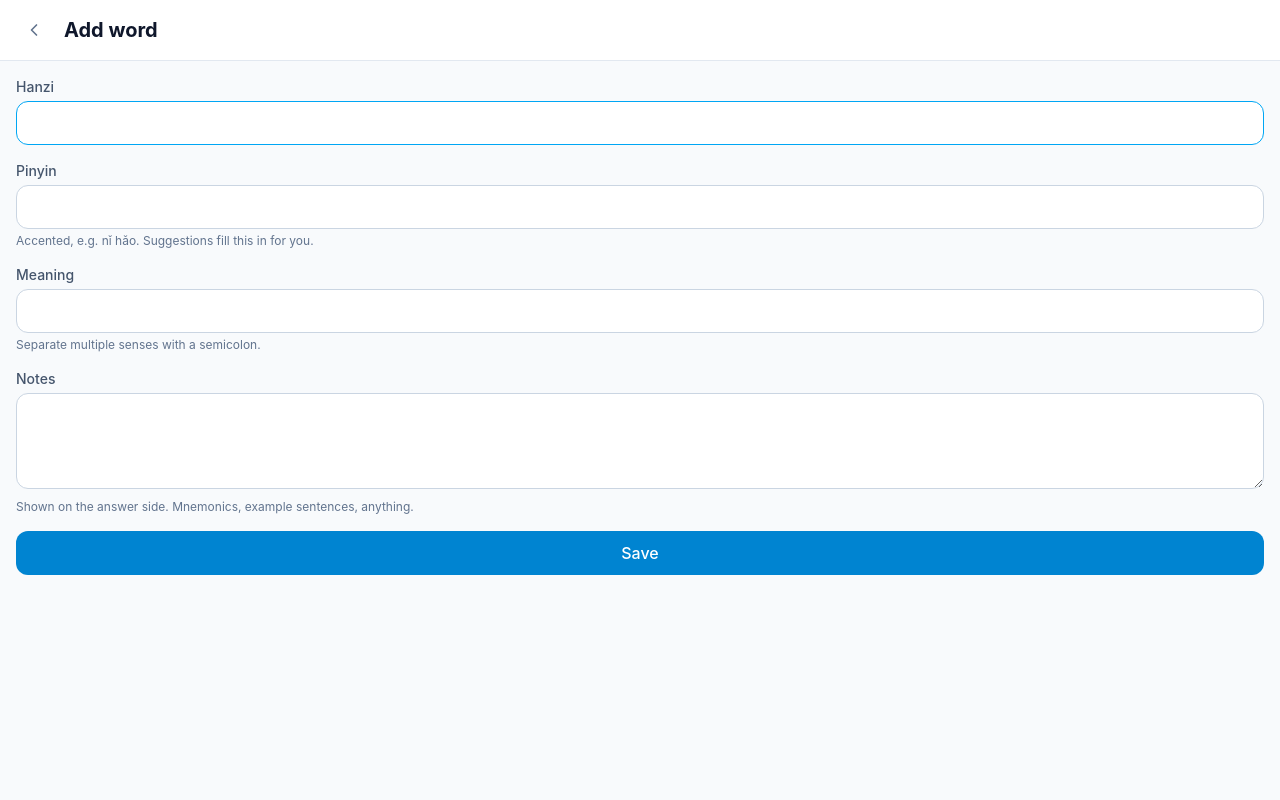
NoteEditorPage: creating › replaces pinyin and meaning when a different suggestion is picked
Type "好" into the field labelled "Hanzi" at (640,123), box [16, 101, 1264, 145]
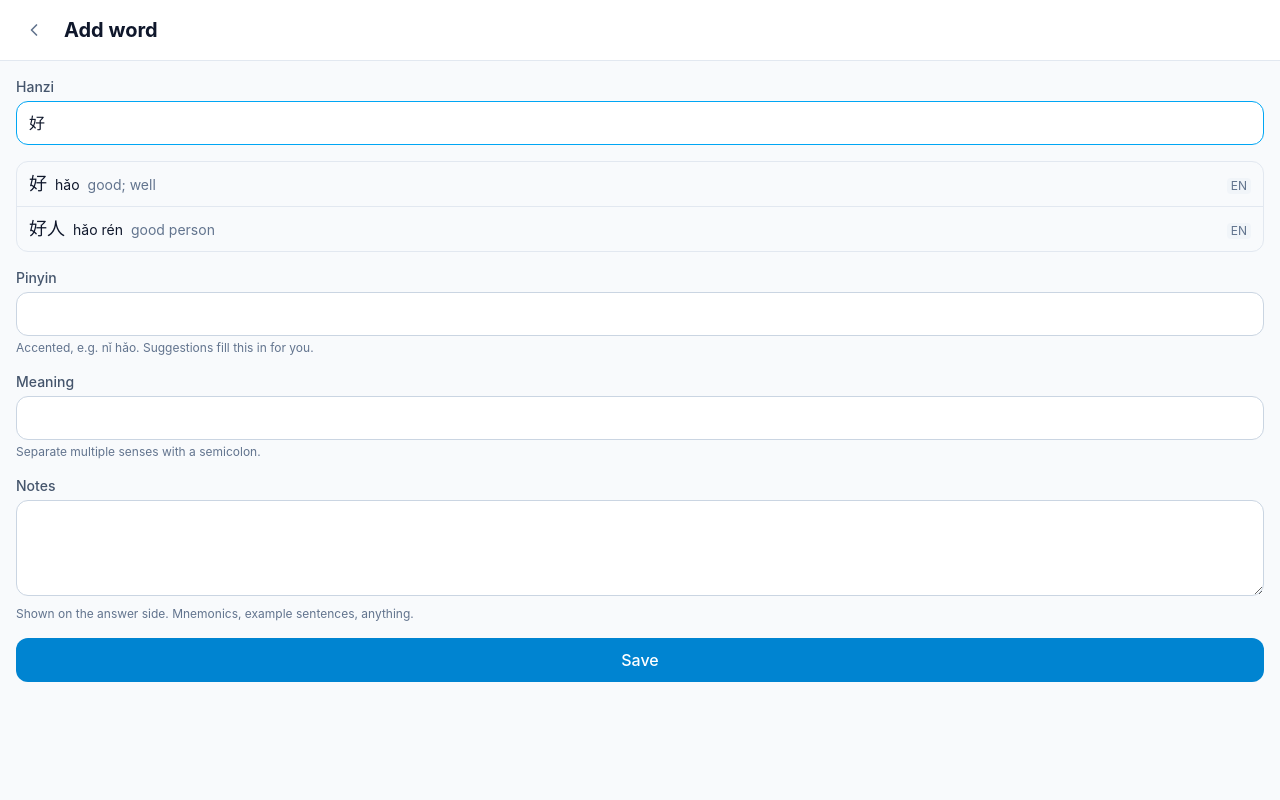
Click the button "好人 hǎo rén good person en" at (47,228), box [17, 207, 1263, 251]
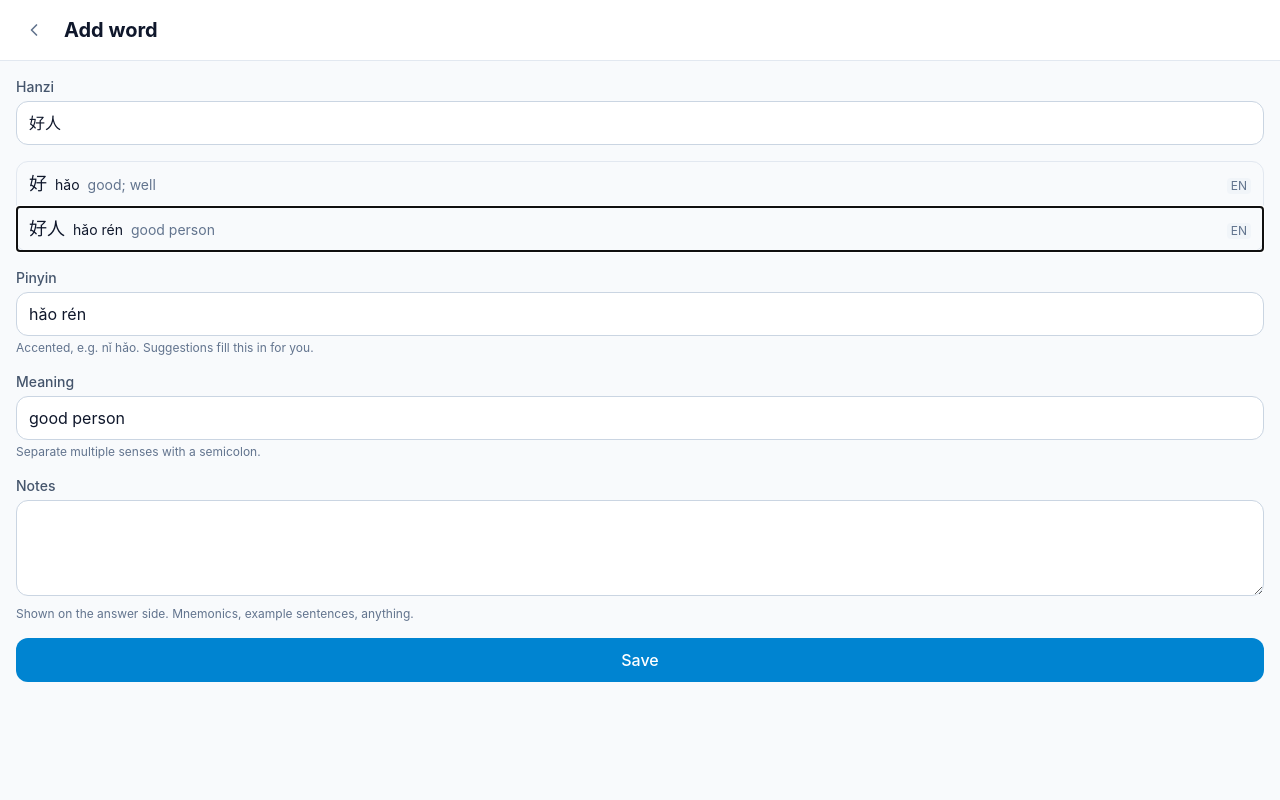
Now the field labelled "Pinyin" holds "hǎo rén", box [16, 292, 1264, 336]
Replace the text in the field labelled "Hanzi" with "好" at (640,123), box [16, 101, 1264, 145]
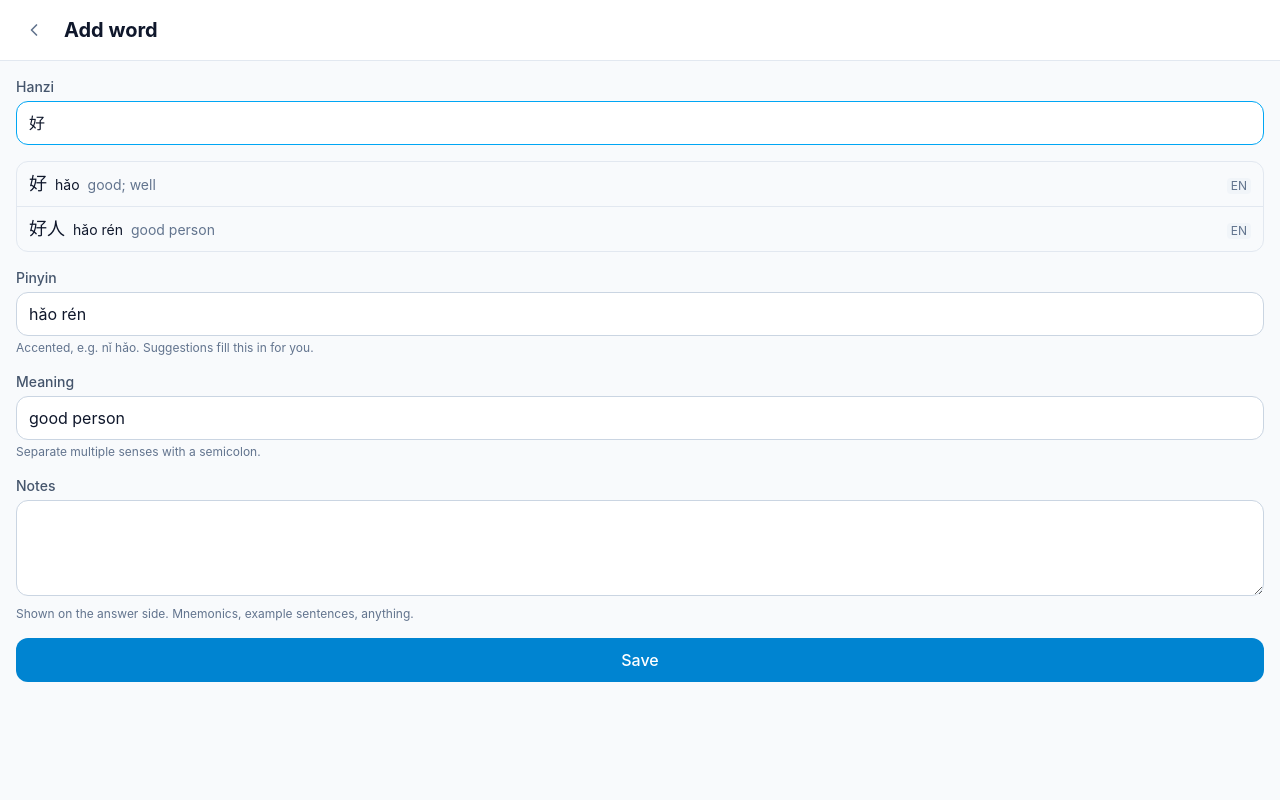
Click the button "好 hǎo good; well en" at (122,184), box [17, 162, 1263, 206]
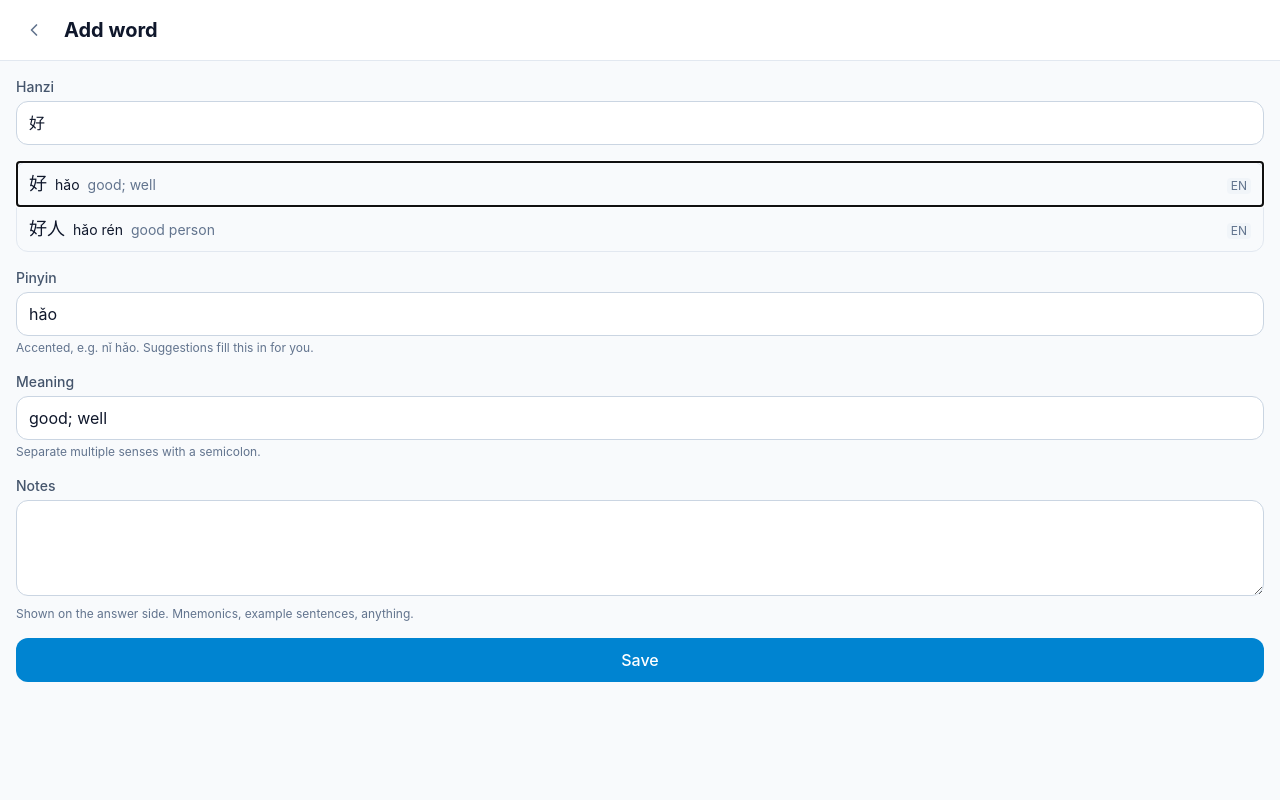
Now the field labelled "Pinyin" holds "hǎo", box [16, 292, 1264, 336]
Now the field labelled "Meaning" holds "good; well", box [16, 396, 1264, 440]
